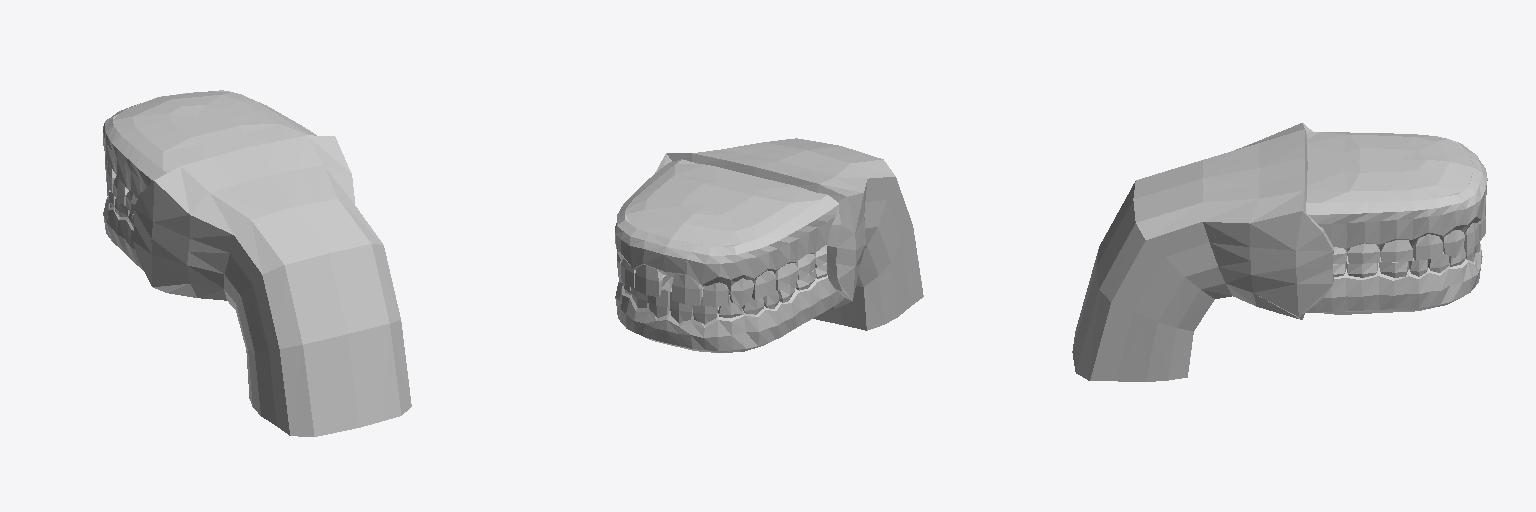
Rendered from Human Denture - with Tooth Gap.obj.
3 renders of one model, left to right at view 1: azimuth 30°, elevation 25°; view 2: azimuth 150°, elevation 25°; view 3: azimuth 270°, elevation 25°, orthographic.
Visible parts, largest first — view 1: HwTG_-_Throat, HwTG_-_Upper_Jaw, HwTG_-_Lower_Jaw; view 2: HwTG_-_Upper_Jaw, HwTG_-_Throat, HwTG_-_Lower_Jaw; view 3: HwTG_-_Throat, HwTG_-_Upper_Jaw, HwTG_-_Lower_Jaw.
Boxes of the visible parts, box(x1,y1,x2,y2) form: HwTG_-_Throat: box(133, 135, 411, 436); HwTG_-_Upper_Jaw: box(103, 90, 316, 213); HwTG_-_Lower_Jaw: box(103, 187, 143, 270); HwTG_-_Upper_Jaw: box(615, 159, 838, 306); HwTG_-_Throat: box(655, 138, 923, 330); HwTG_-_Lower_Jaw: box(615, 263, 844, 352); HwTG_-_Throat: box(1072, 123, 1333, 381); HwTG_-_Upper_Jaw: box(1306, 132, 1487, 263); HwTG_-_Lower_Jaw: box(1305, 240, 1482, 314).
Size of the model in its own units: 0.1085 by 0.1057 by 0.2023.